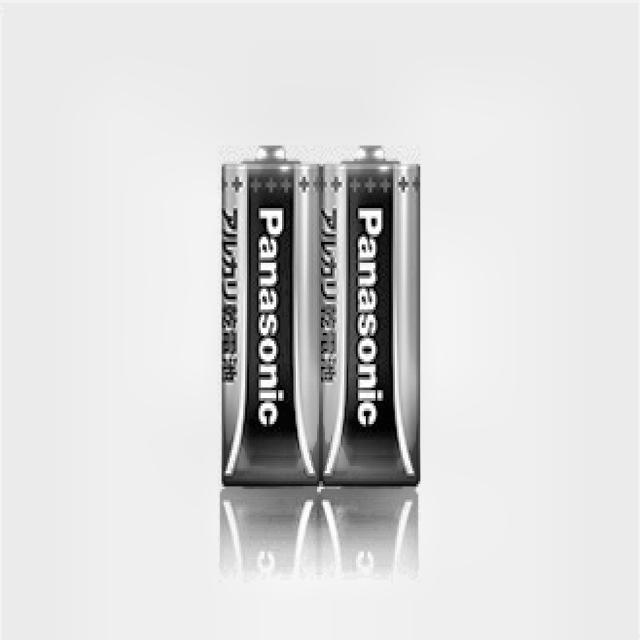drycell: (218, 142, 324, 488), (317, 144, 423, 490)
